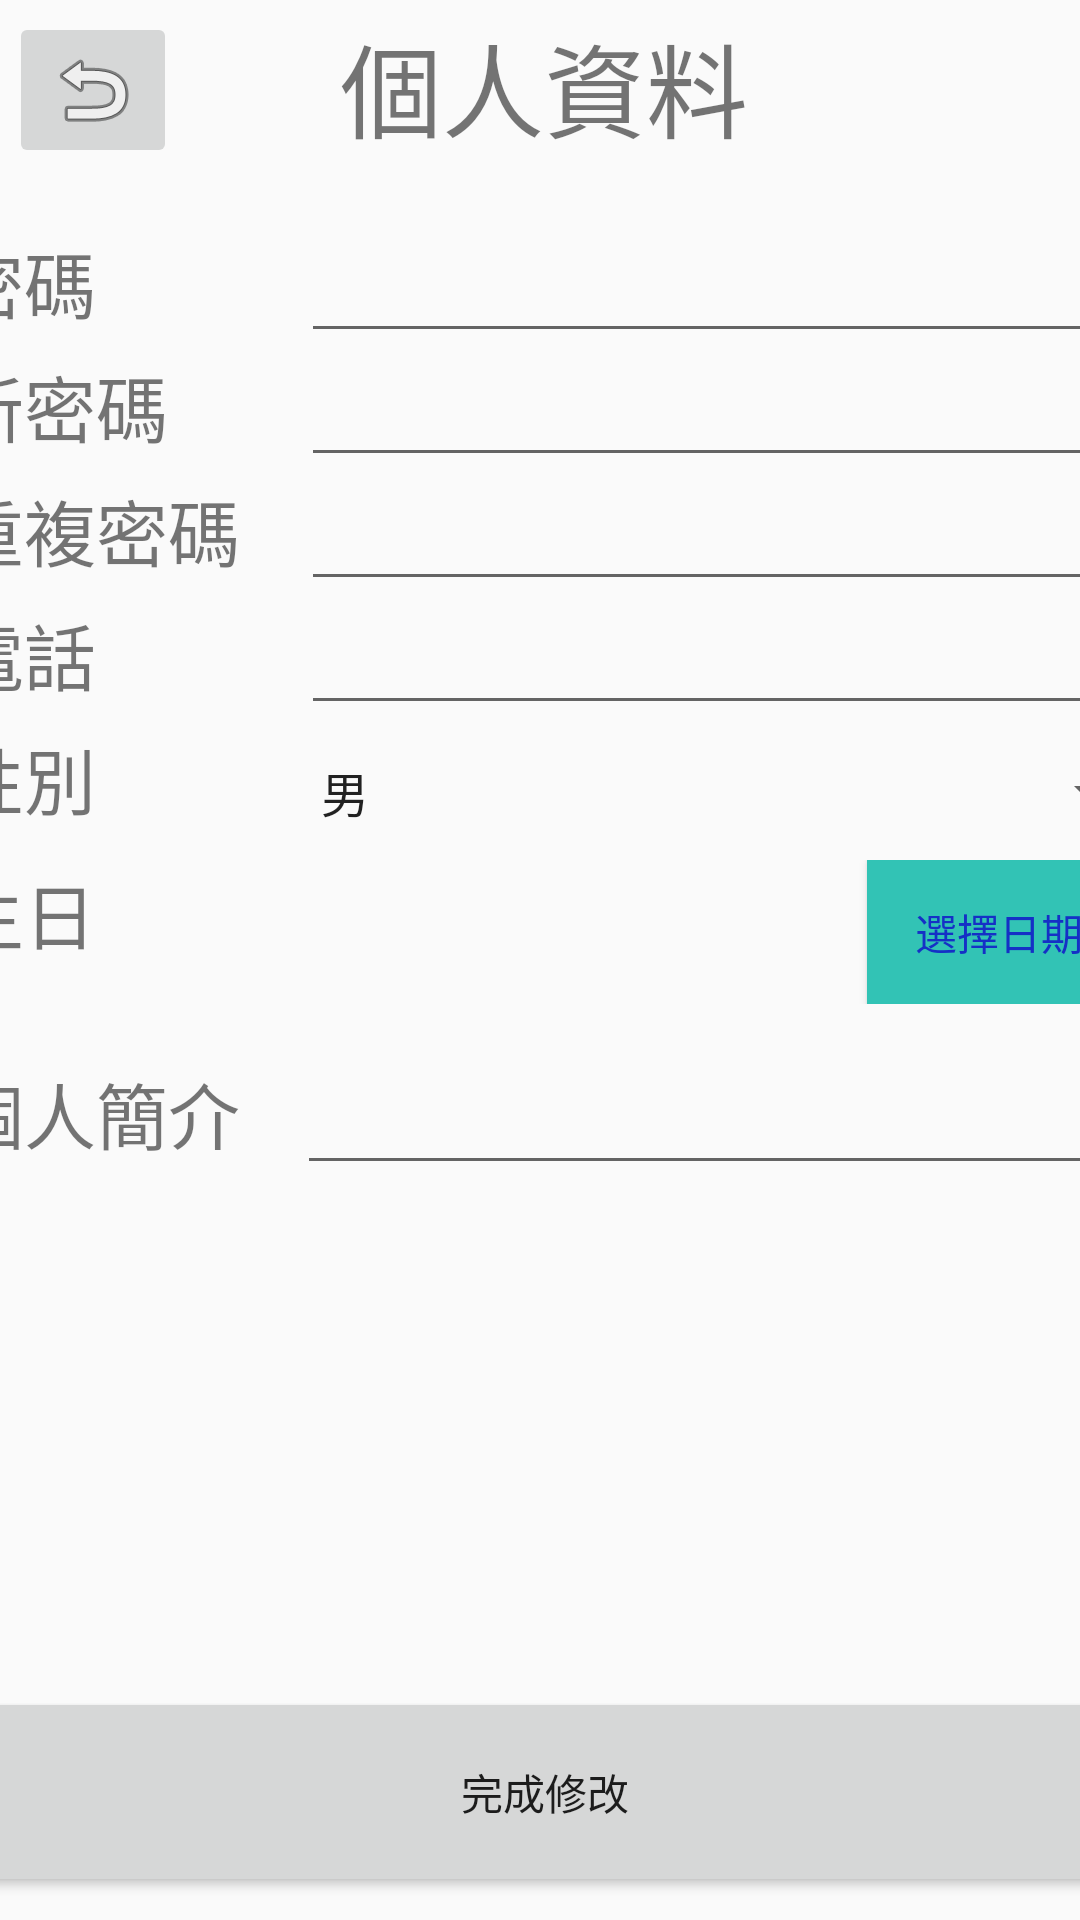

Icons on this 1080px x 1920px Android screen, each with its box as (x1, y1, x2, y2):
revert: (21, 30, 165, 150)
